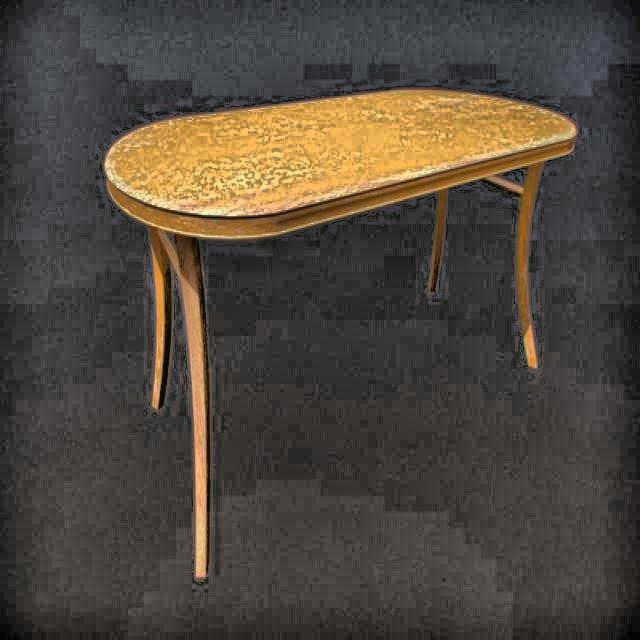mesa: (101, 87, 578, 578)
